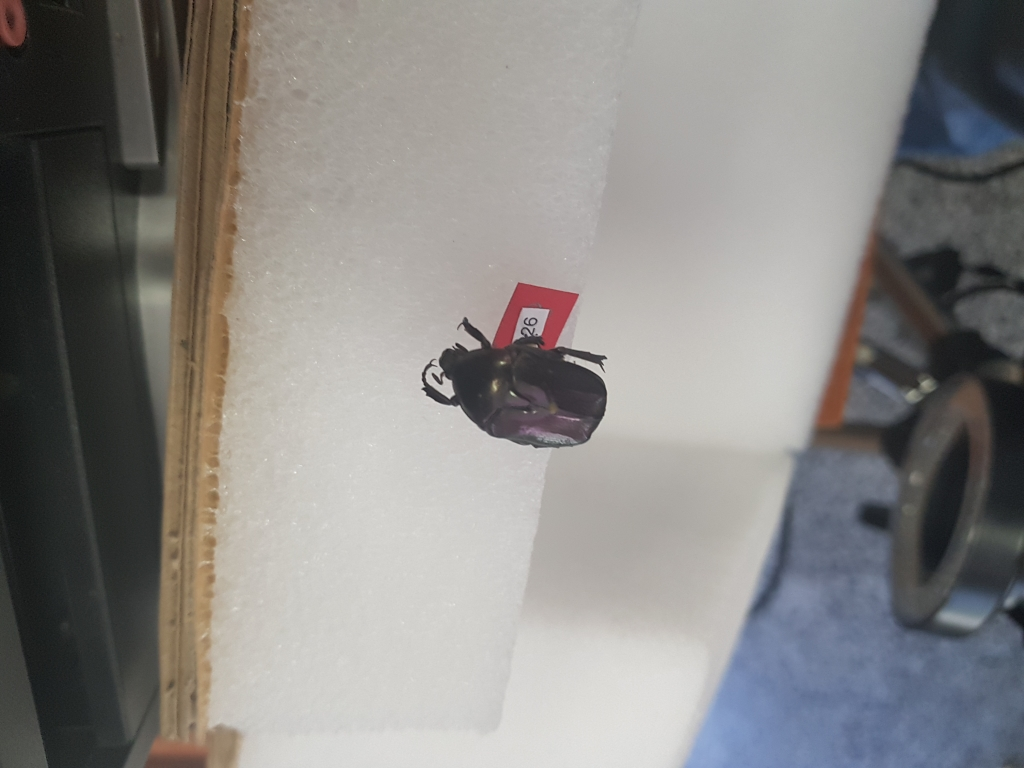Protaetia_besucheti: (415, 306, 620, 468)
